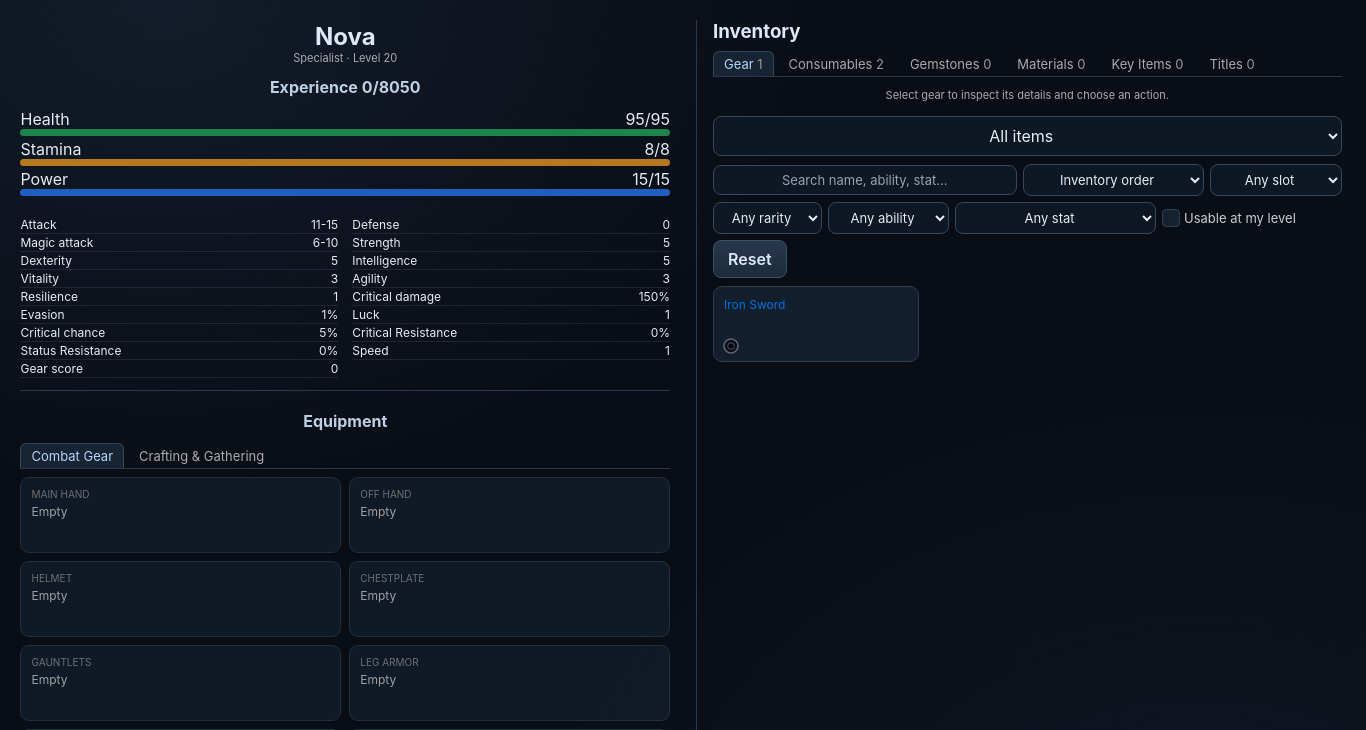
it: failed use displays the reason without consuming the potion
The image size is (1366, 730).
Click the tab "Consumables 2": (836, 64) [778,52,895,76]
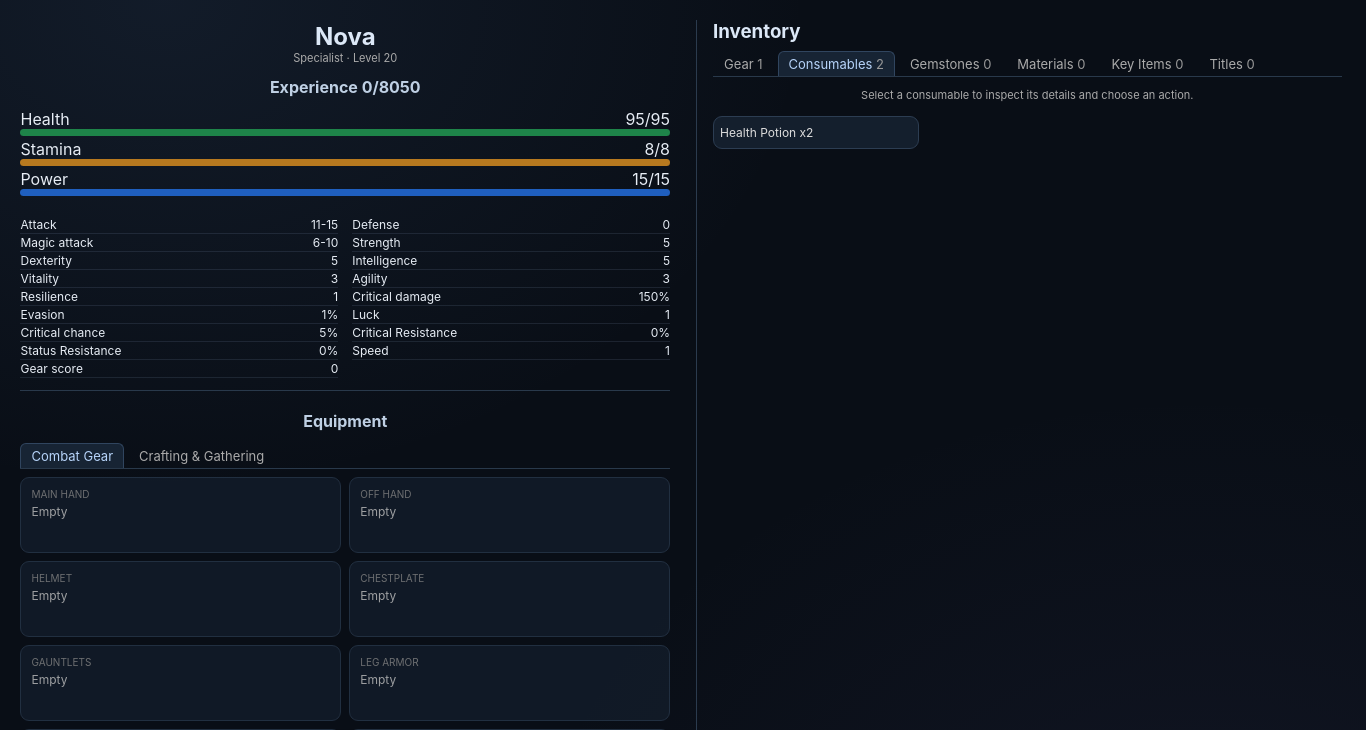
Click the button "Health Potion x2": (816, 133) [713,116,918,150]
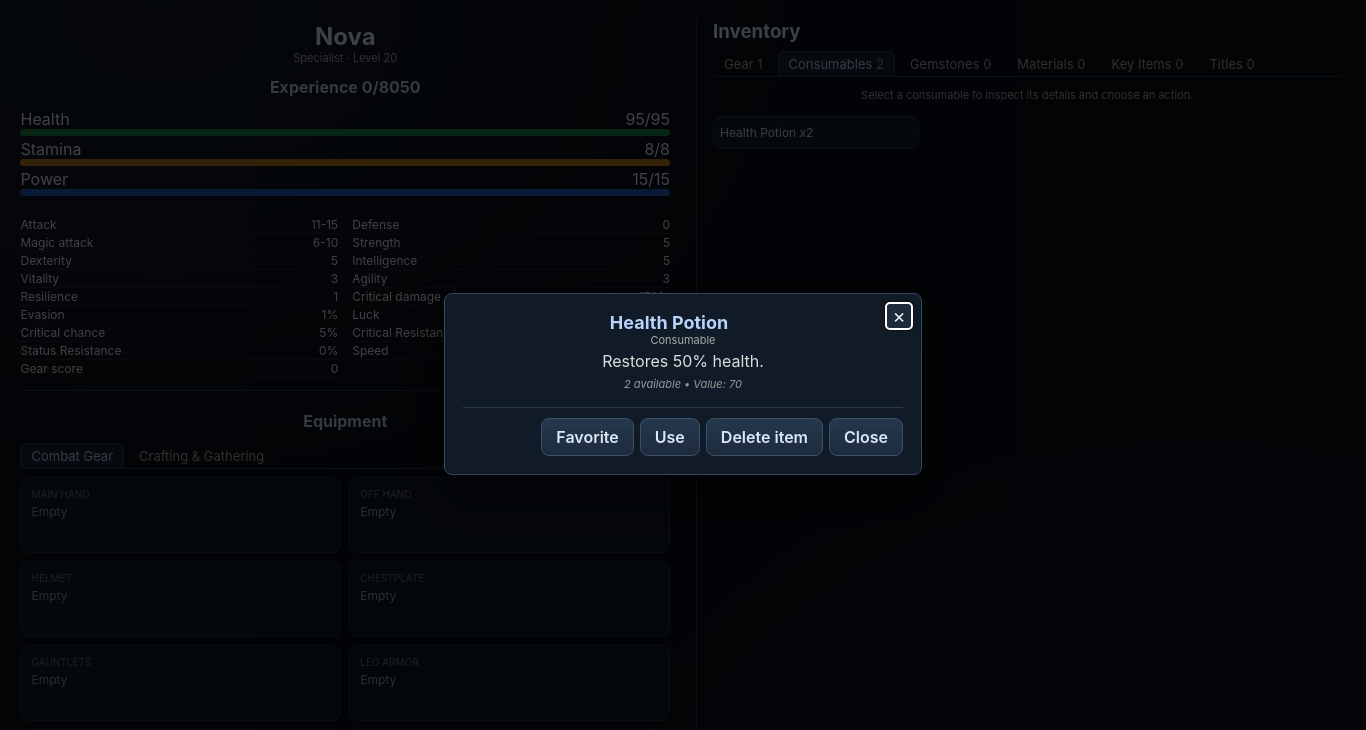
Click the button "Use": (670, 437) [640,418,700,456]
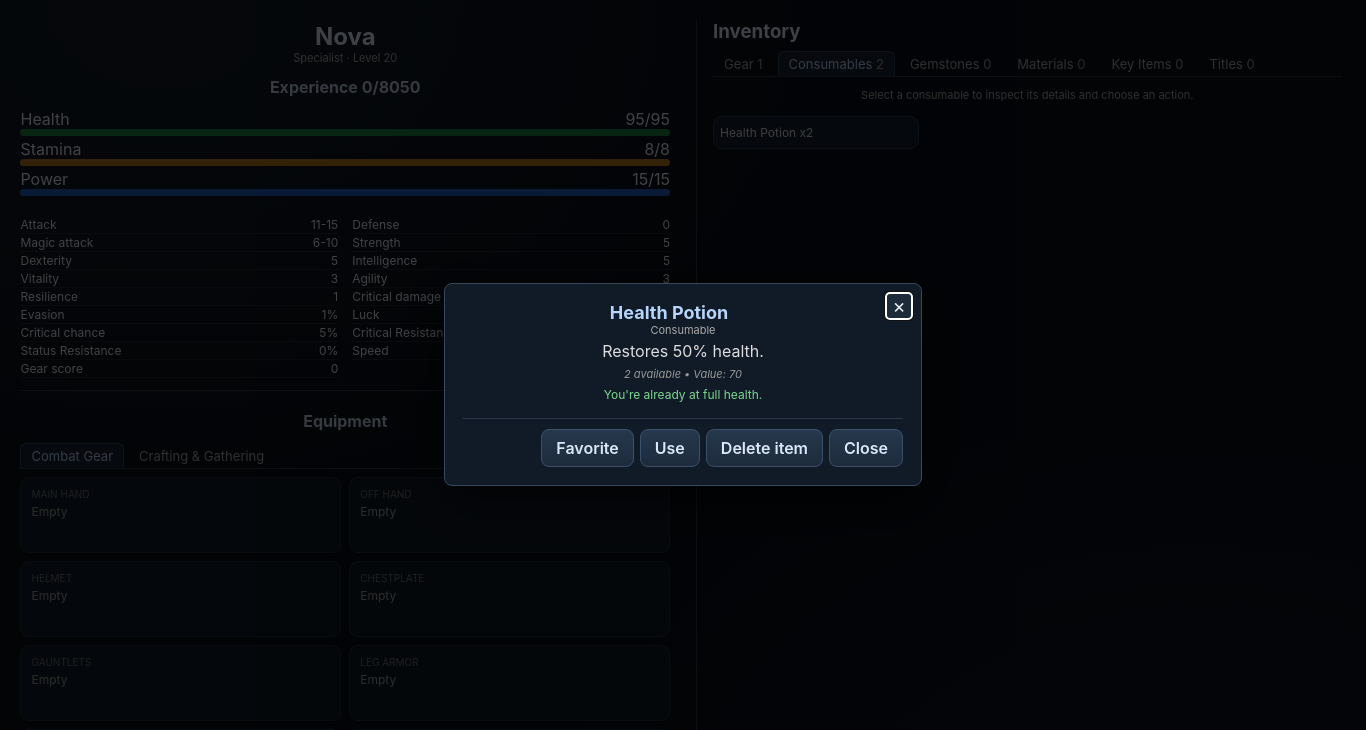
expect the message shows "full health": met, box [604,386,762,402]
